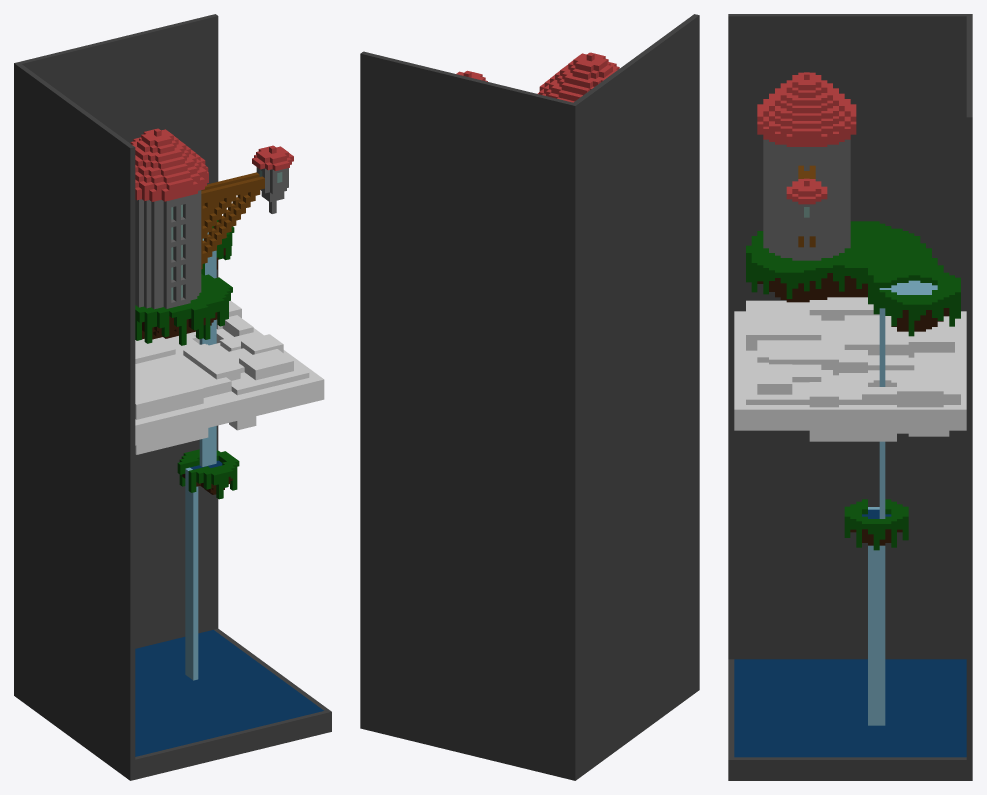
File: sky-castle.fbx
The picture shows the model from 3 angles, left to right: view 1: azimuth 30°, elevation 25°; view 2: azimuth 150°, elevation 25°; view 3: azimuth 270°, elevation 25°; orthographic projection. The views are drawn at different scales.
Parts seen in each view (by area): view 1: sky castle; view 2: sky castle; view 3: sky castle.
Boxes of the visible parts, x1,y1,x2,y2 form: sky castle: (14, 14, 331, 780); sky castle: (360, 14, 699, 780); sky castle: (728, 14, 972, 780).
Size of the model in its own units: 4200 by 12600 by 4200.
